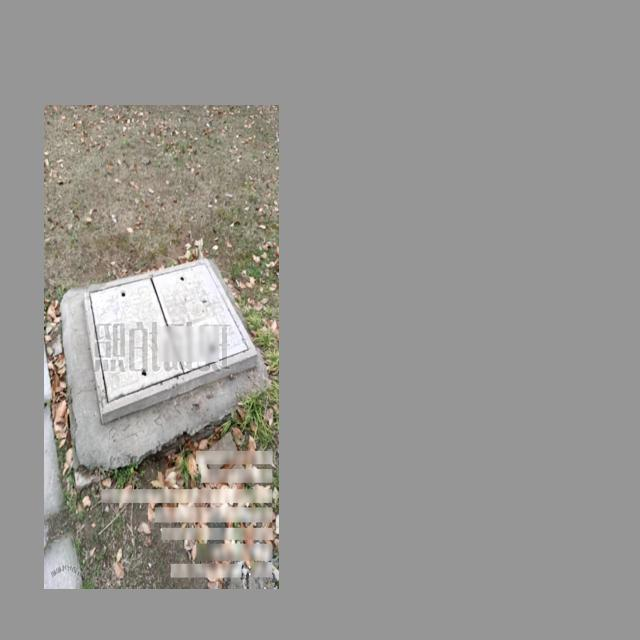good: (84, 258, 258, 425)
